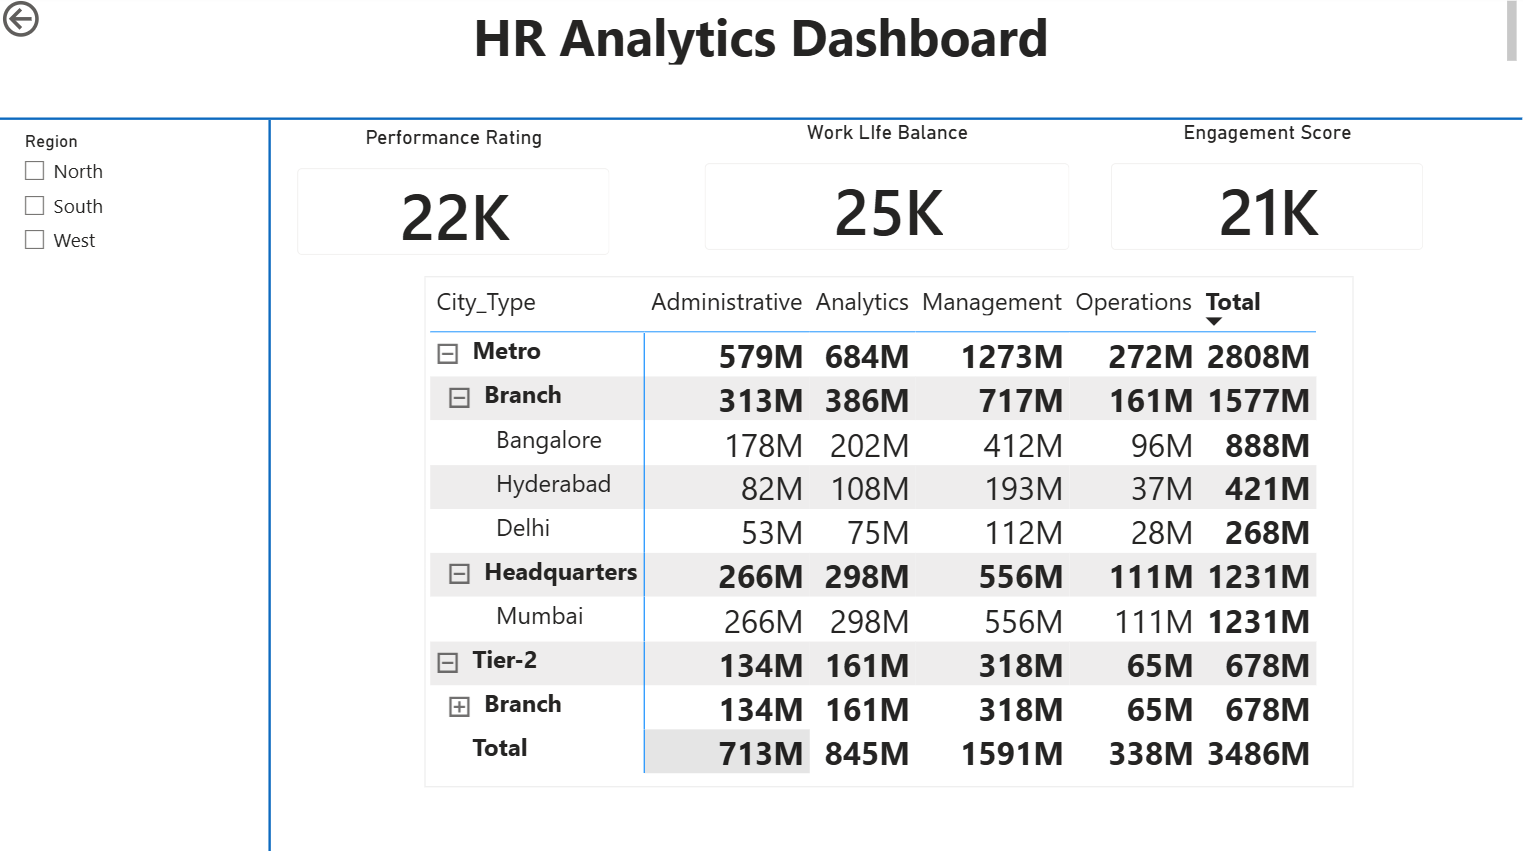

This screenshot's page, from the dashboard's own definition file:
{"tool":"powerbi","page":{"name":"HR 2","canvas":[1280,720],"ordinal":3},"visuals":[{"type":"textbox","box":[10.6,0,1268.9,63.6],"z":0},{"type":"shape","box":[0,105.2,457.3,614.8],"z":1000},{"type":"shape","box":[0,0,1279.5,207.4],"z":2000},{"type":"slicer","fields":{"Values":["Dim_Location.Region"]},"box":[10.6,109,205.9,195.3],"z":3000},{"type":"cardVisual","title":"Performance Rating","fields":{"Data":["Sum(HR_Fact.Performance_Rating)"]},"box":[234.7,109,296.8,127.2],"z":4000},{"type":"cardVisual","title":"Work LIfe Balance","fields":{"Data":["Sum(HR_Fact.Work_Life_Balance)"]},"box":[576.9,104.5,340.7,127.2],"z":5000},{"type":"cardVisual","title":"Engagement Score","fields":{"Data":["Sum(HR_Fact.Engagement_Score)"]},"box":[917.6,104.5,296.8,127.2],"z":6000},{"type":"actionButton","box":[0,0,100,40],"z":7000},{"type":"pivotTable","fields":{"Rows":["Dim_Location.City_Type","Dim_Location.Office_Type","Dim_Location.Location_Name"],"Columns":["Dim_JobRole.Job_Family"],"Values":["Sum(HR_Fact.Salary)"]},"box":[358.9,236.2,778.3,428.5],"z":8000}]}

Visuals, with their boxes in screenshot pixels (x1, y1, x2, y2), scaled from the page's 1280x720 canvas onto the 1523x851 screenshot:
textbox: {"x1": 13, "y1": 0, "x2": 1522, "y2": 75}
shape: {"x1": 0, "y1": 124, "x2": 544, "y2": 850}
shape: {"x1": 0, "y1": 0, "x2": 1522, "y2": 245}
slicer - Dim_Location.Region: {"x1": 13, "y1": 129, "x2": 258, "y2": 360}
"Performance Rating" cardVisual: {"x1": 279, "y1": 129, "x2": 632, "y2": 279}
"Work LIfe Balance" cardVisual: {"x1": 686, "y1": 124, "x2": 1092, "y2": 274}
"Engagement Score" cardVisual: {"x1": 1092, "y1": 124, "x2": 1445, "y2": 274}
actionButton: {"x1": 0, "y1": 0, "x2": 119, "y2": 47}
pivotTable - Dim_Location.City_Type x Dim_Location.Office_Type: {"x1": 427, "y1": 279, "x2": 1353, "y2": 786}
